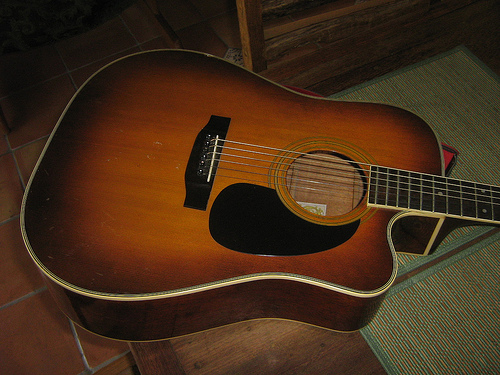guitar: (17, 44, 500, 344)
